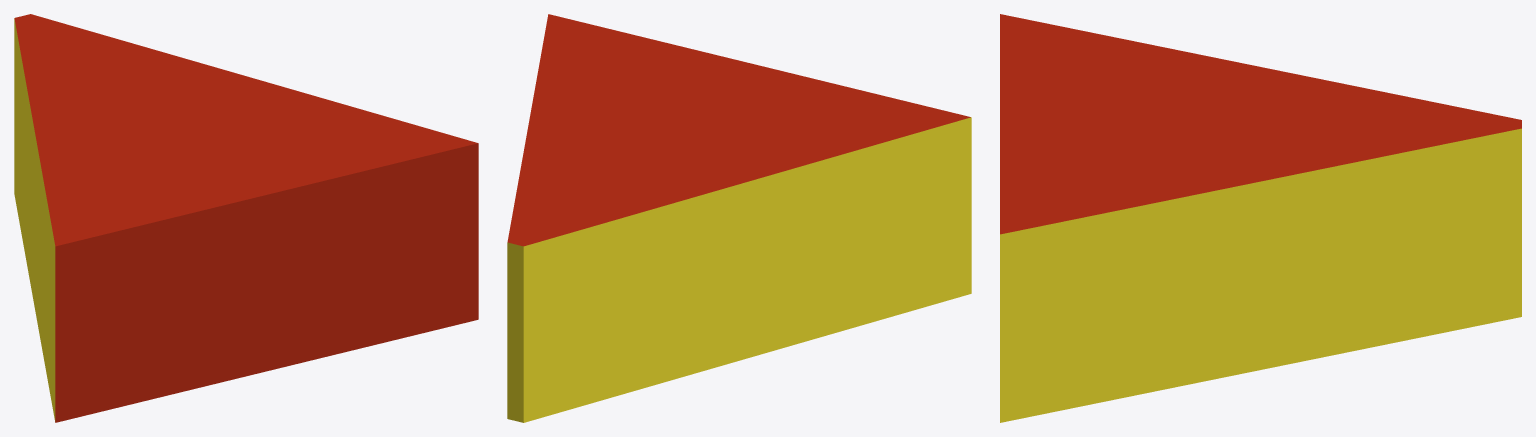
File: Cheese.fbx
The picture shows the model from 3 angles, left to right: view 1: azimuth 30°, elevation 25°; view 2: azimuth 150°, elevation 25°; view 3: azimuth 270°, elevation 25°; orthographic projection. The views are drawn at different scales.
Visible parts, largest first — view 1: Cube.001; view 2: Cube.001; view 3: Cube.001.
Part boxes in pixels (x1,y1,x2,y2): Cube.001: (14,14,478,422); Cube.001: (507,14,971,422); Cube.001: (1000,14,1521,422).
Size of the model in its own units: 200 by 79.72 by 200.
Materials: 1 (1 with a texture image).
